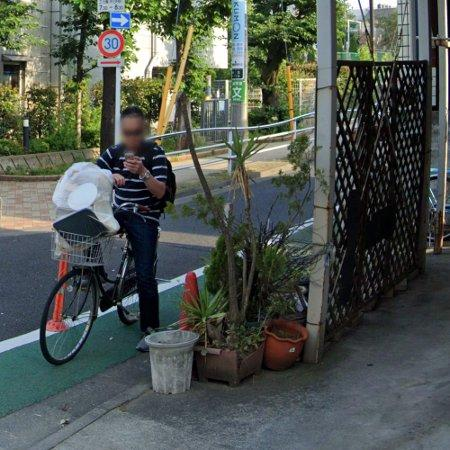bicycles: (40, 230, 139, 366)
